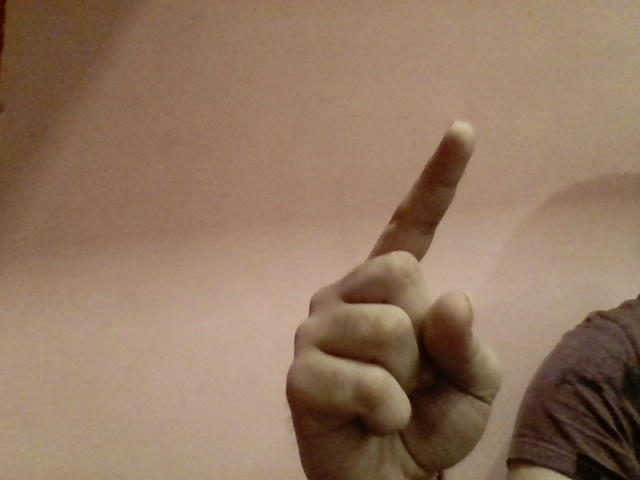z: (290, 113, 510, 480)
